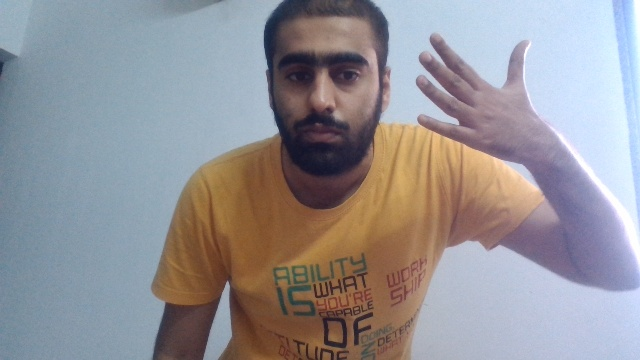paper: (415, 32, 531, 167)
